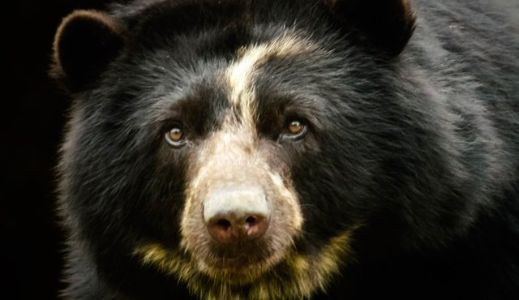bear: (44, 1, 516, 294)
